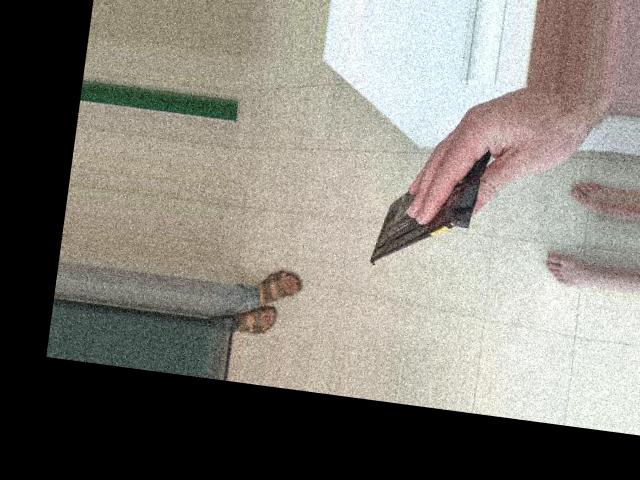chocolate: (361, 116, 505, 281)
